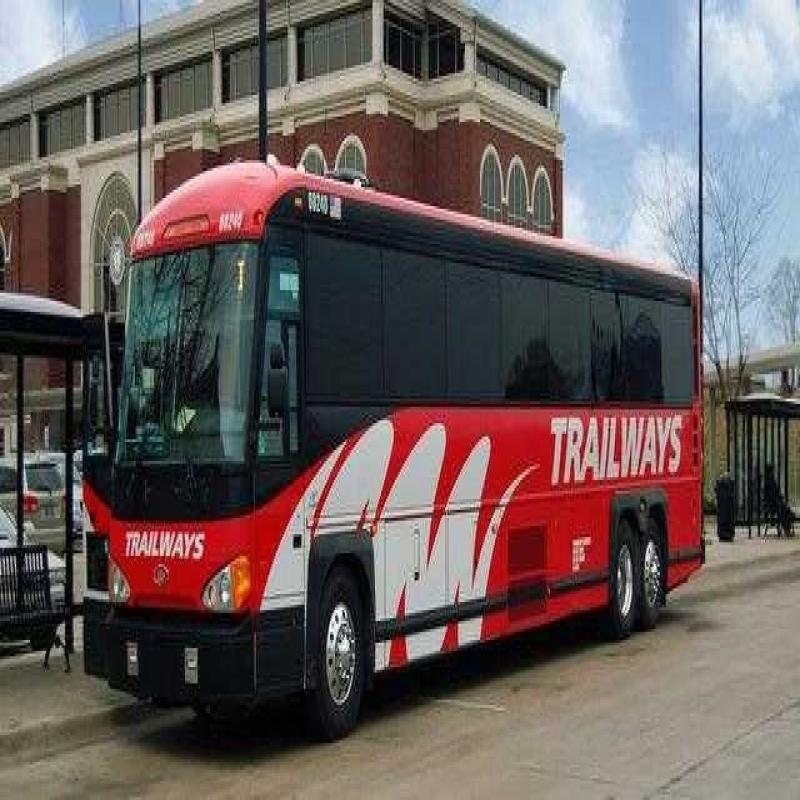bus: (79, 111, 720, 769)
